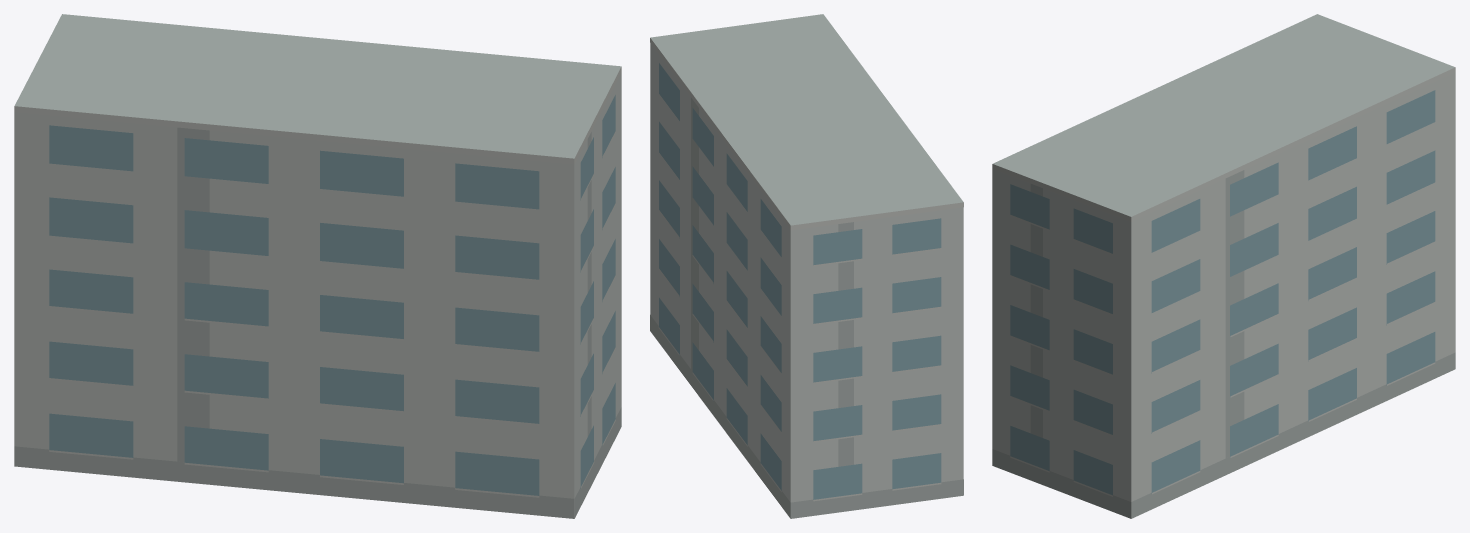
The model's file is survey-upis-32529062.glb.
The picture shows the model from 3 angles, left to right: view 1: azimuth 30°, elevation 25°; view 2: azimuth 150°, elevation 25°; view 3: azimuth 270°, elevation 25°; orthographic projection. The views are drawn at different scales.
Visible parts, largest first — view 1: survey-upis-32529062.tmp; view 2: survey-upis-32529062.tmp; view 3: survey-upis-32529062.tmp.
Boxes of the visible parts, x1,y1,x2,y2 form: survey-upis-32529062.tmp: [14, 14, 621, 518]; survey-upis-32529062.tmp: [650, 14, 963, 518]; survey-upis-32529062.tmp: [992, 14, 1455, 518].
Bounding box in the file's own units: 20.76 × 14.4 × 20.02.
